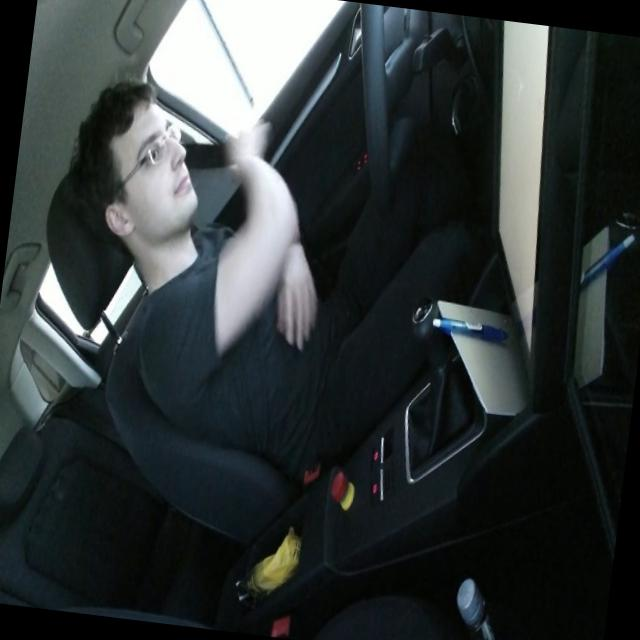pen: (429, 313, 508, 343)
